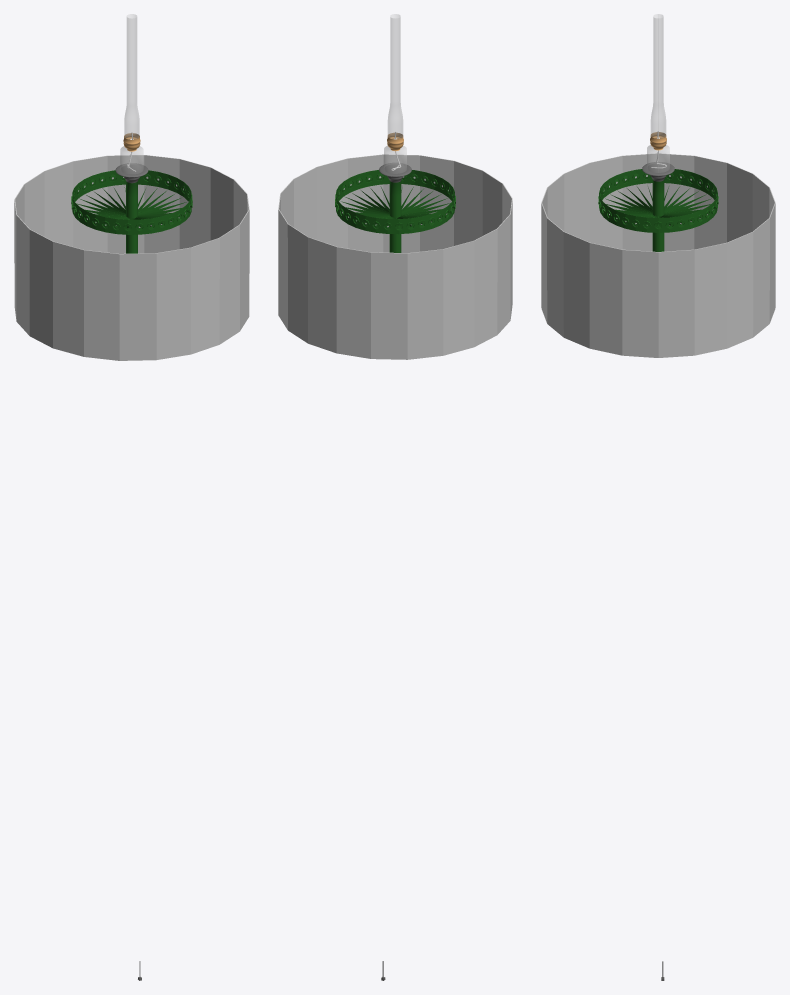
Rendered from MechanicalRoom.glb.
3 renders of one model, left to right at view 1: azimuth 30°, elevation 25°; view 2: azimuth 150°, elevation 25°; view 3: azimuth 270°, elevation 25°, orthographic.
Visible parts, largest first — view 1: Mechanical room, Clockwork-cabinet, Oil-lamp; view 2: Mechanical room, Clockwork-cabinet, Oil-lamp; view 3: Mechanical room, Clockwork-cabinet, Oil-lamp.
Boxes of the visible parts, left/top/right/bottom form: Mechanical room: left=14, top=155, right=249, bottom=360; Clockwork-cabinet: left=71, top=170, right=192, bottom=253; Oil-lamp: left=115, top=14, right=148, bottom=196; Mechanical room: left=278, top=154, right=512, bottom=359; Clockwork-cabinet: left=335, top=170, right=455, bottom=252; Oil-lamp: left=379, top=14, right=411, bottom=196; Mechanical room: left=541, top=153, right=775, bottom=357; Clockwork-cabinet: left=598, top=169, right=718, bottom=251; Oil-lamp: left=642, top=14, right=674, bottom=195.
Size of the model in its own units: 4.03 by 18.18 by 4.03.
